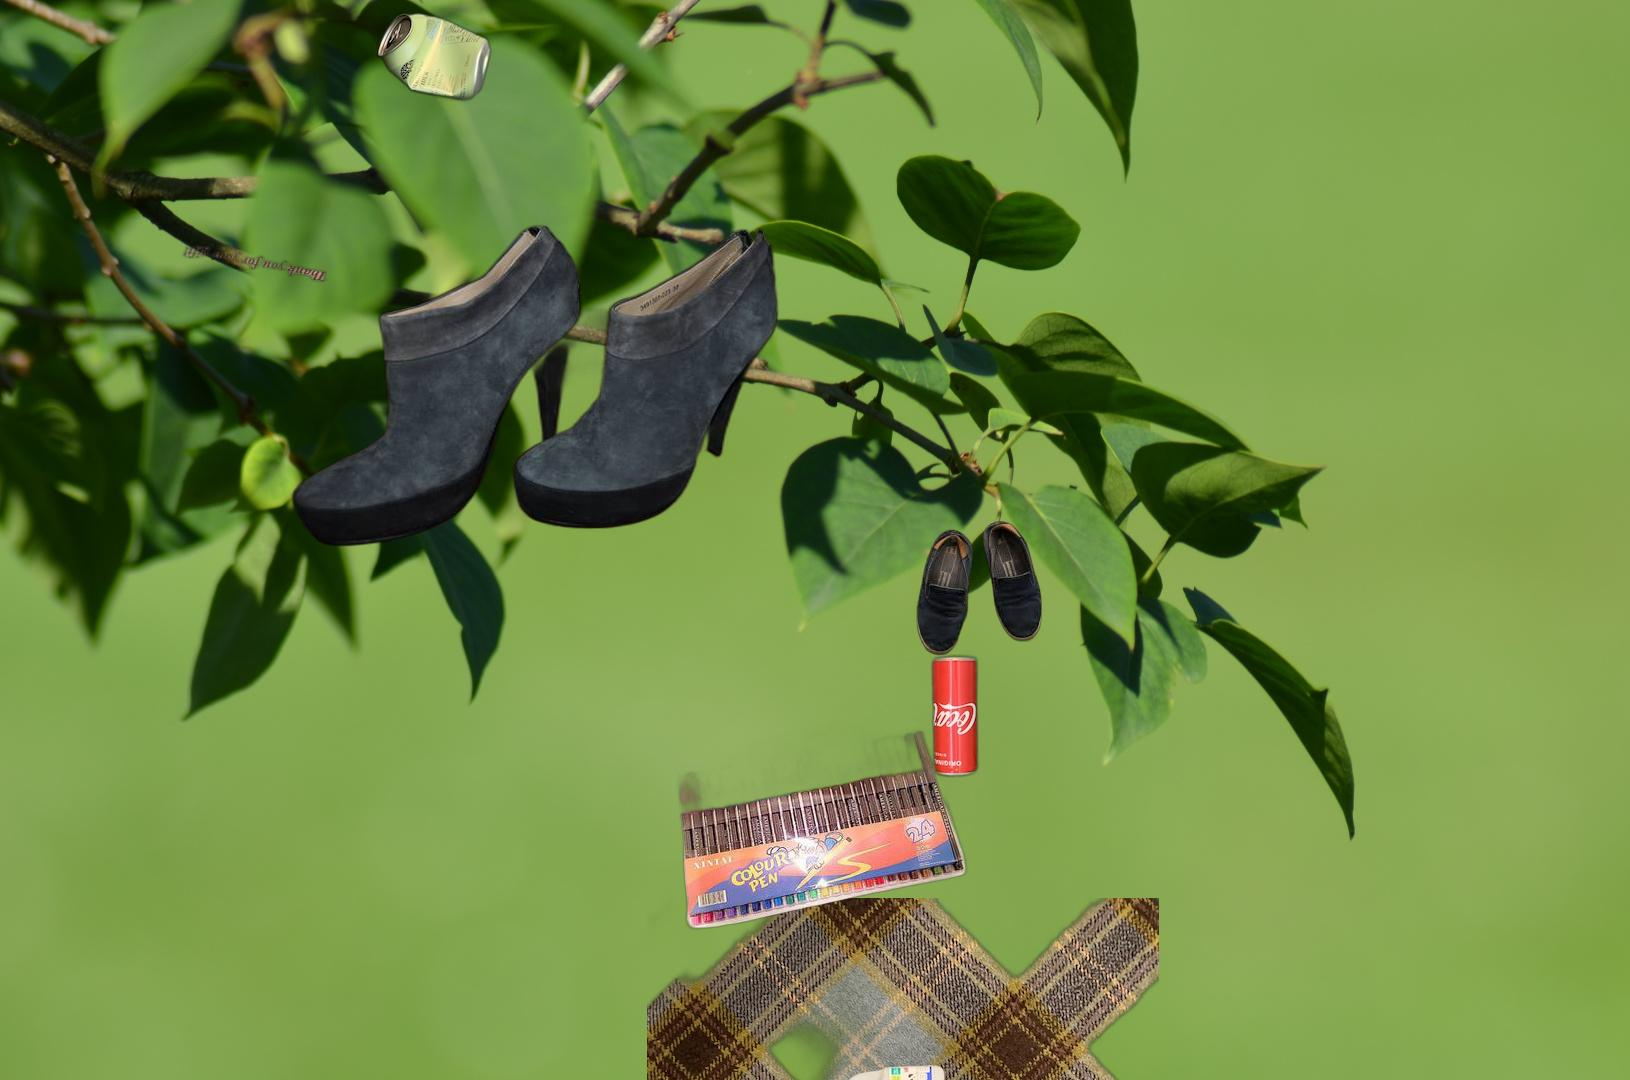metal-cans: (373, 7, 495, 106), (926, 651, 982, 782)
paper: (180, 241, 330, 284)
penholder: (675, 687, 970, 931)
plastic-bottles: (647, 898, 1159, 1080)
shoes: (287, 222, 783, 550), (914, 518, 1045, 658)
